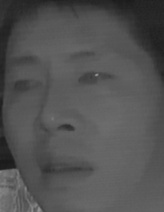eye: (78, 66, 117, 88), (10, 75, 43, 97)
mouth: (36, 150, 92, 186)
